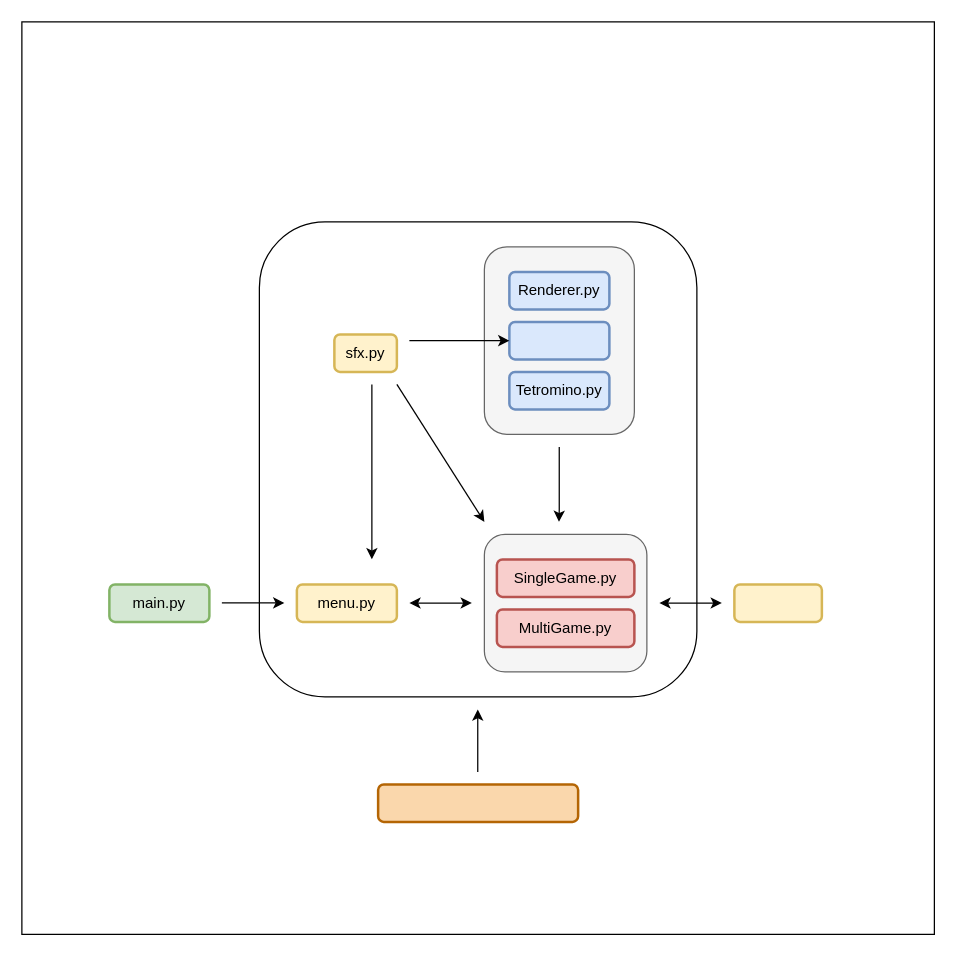
Some shapes in this 956 by 956 pixel diagram are drawn without their labels. Each missing label, with the centre of its shape:
Board.py: the point at 559,340
constants_parameters.py: the point at 477,802
stats.py: the point at 777,602
